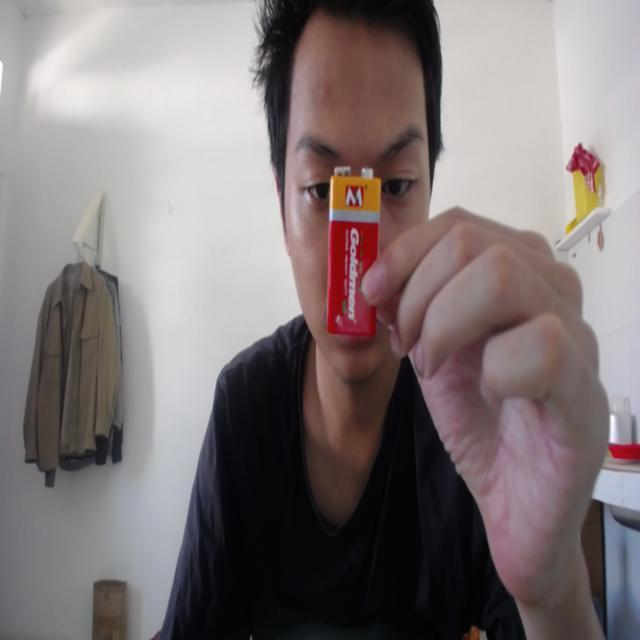Hazard: (324, 164, 384, 338)
